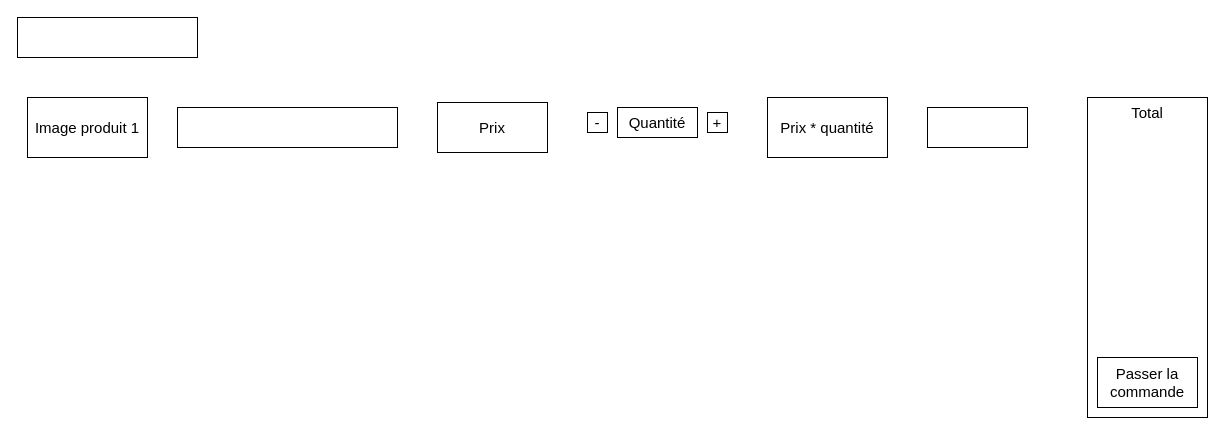
The diagram is 1225 pixels wide and 435 high, and some of its shapes have lost their labels. Here are the shapes that lost their labels. From the top down, the centre of each, then its label:
(x=107, y=37): Bouton retour au magasin
(x=287, y=127): Description produit 1
(x=977, y=127): Bouton suppression
